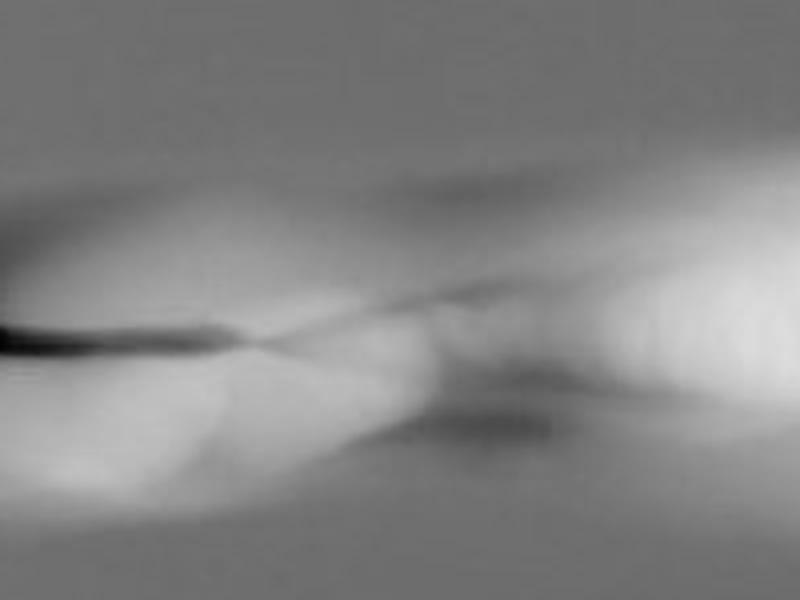defect: (3, 327, 114, 359)
